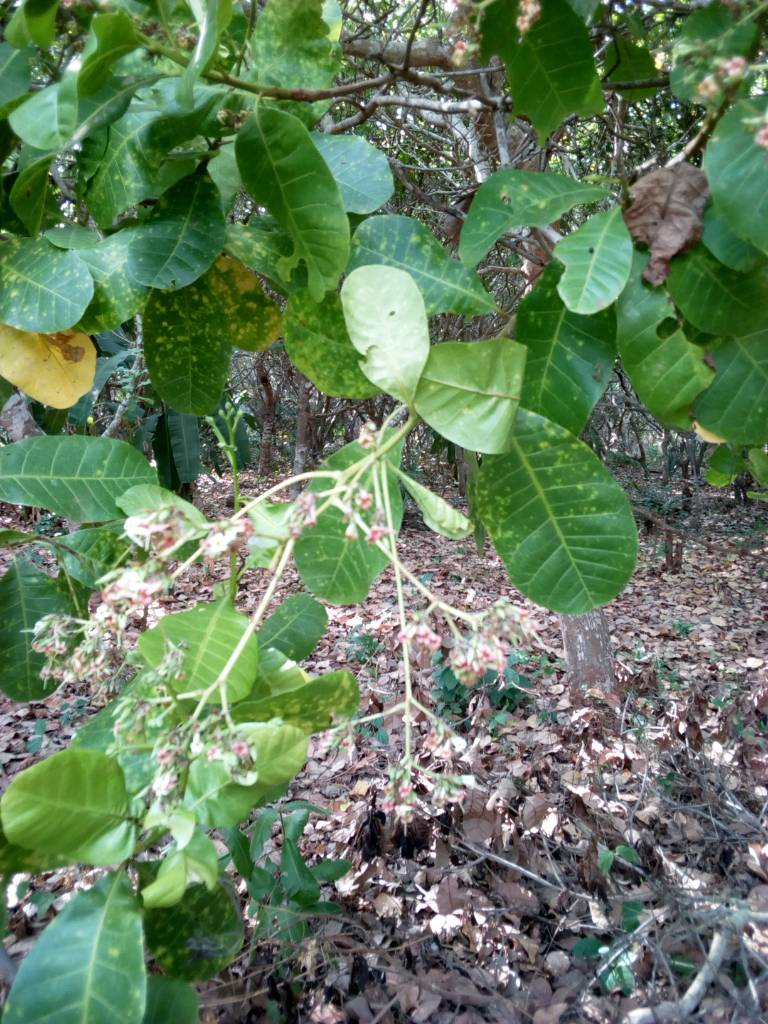Carence minérale: (465, 396, 647, 617), (85, 57, 229, 224), (346, 209, 516, 334), (446, 161, 621, 253), (141, 278, 243, 416), (1, 557, 94, 707), (1, 217, 100, 351)
